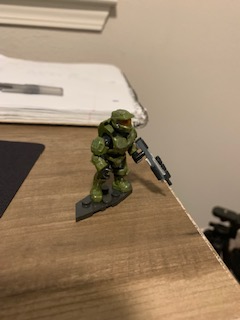chief: (88, 109, 141, 205)
rifle: (131, 135, 173, 188)
spartan: (86, 107, 139, 203)
